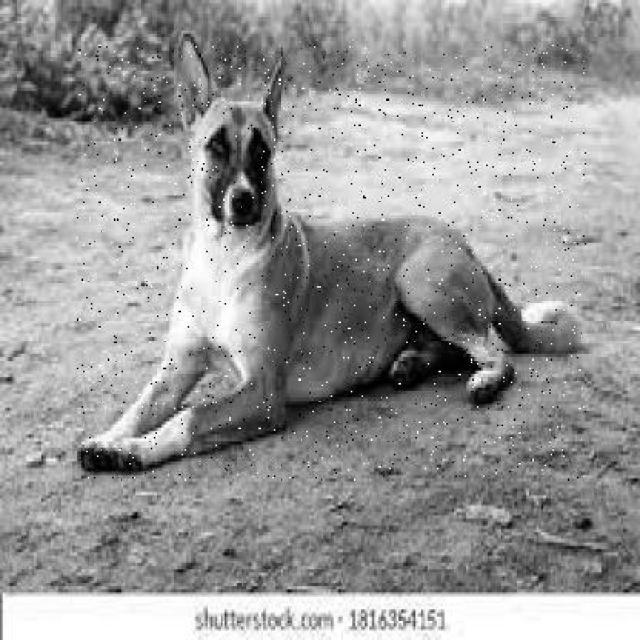Dog: (77, 44, 588, 482)
